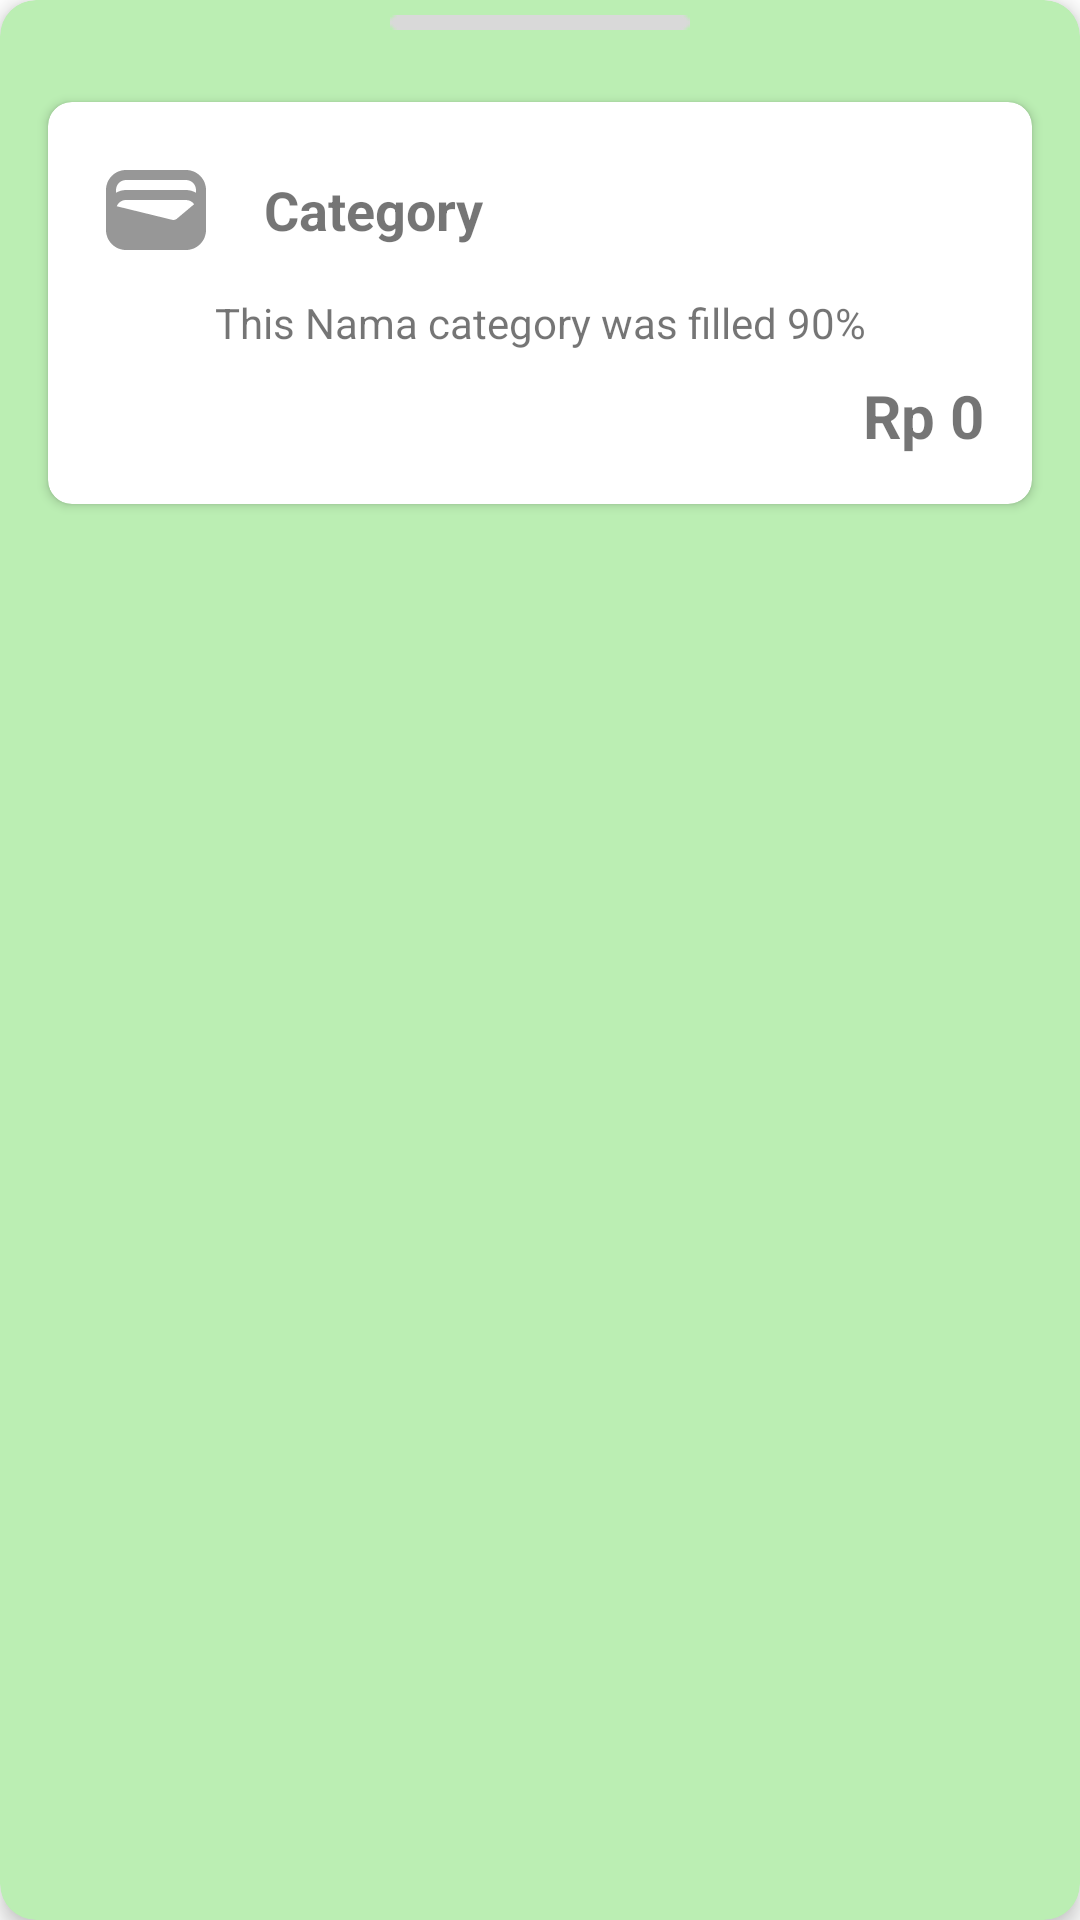

Icons on this 1080 x 1920 Android screen, each with its box as (x1, y1, x2, y2):
wallet: (106, 170, 206, 250)
